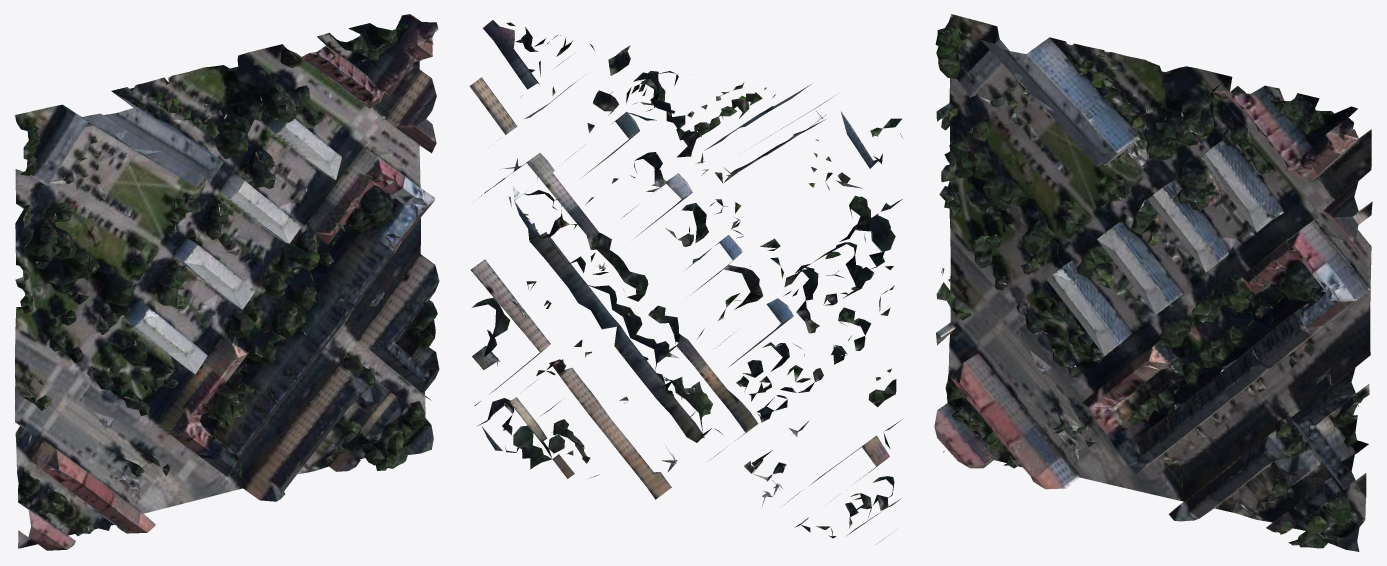
The model's file is Tile_+037_+032_L16_000.glb.
3 renders of one model, left to right at view 1: azimuth 30°, elevation 25°; view 2: azimuth 150°, elevation 25°; view 3: azimuth 330°, elevation 25°, orthographic.
Size of the model in its own units: 250 by 250 by 33.92.
1 material, 1 textured.
